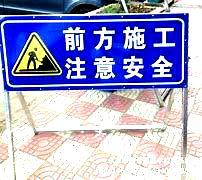sign: (2, 19, 185, 85)
